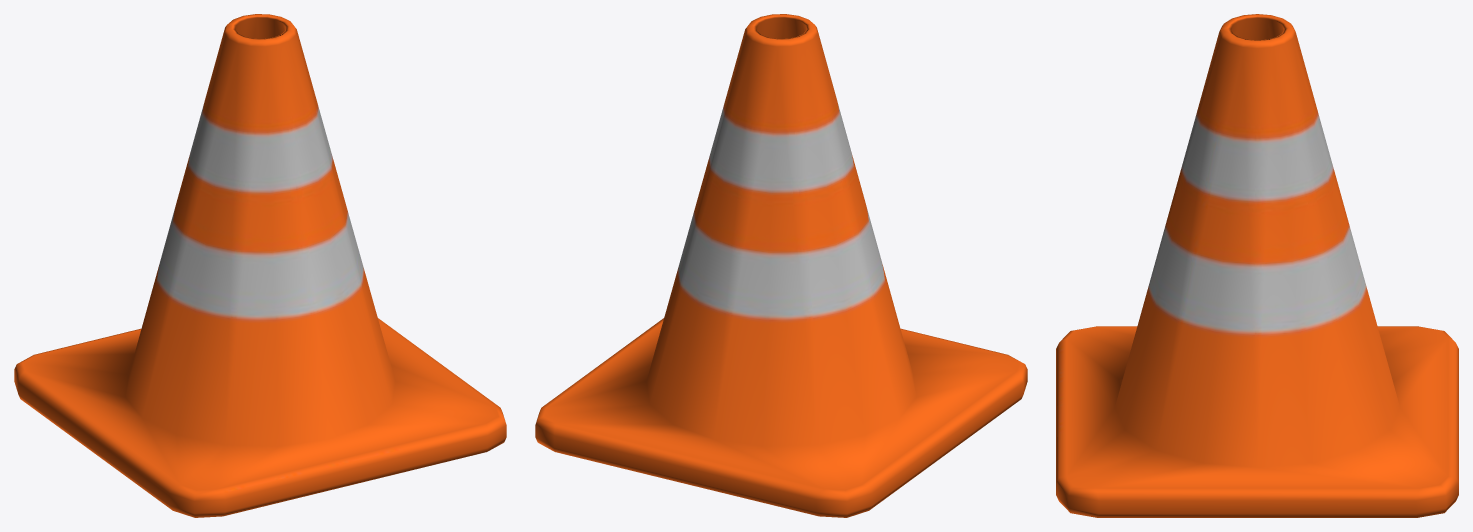
The model's file is hat_cone.glb.
The picture shows the model from 3 angles, left to right: view 1: azimuth 30°, elevation 25°; view 2: azimuth 150°, elevation 25°; view 3: azimuth 270°, elevation 25°; orthographic projection. The views are drawn at different scales.
Parts seen in each view (by area): view 1: LP_TrafficCone_v0.4__0; view 2: LP_TrafficCone_v0.4__0; view 3: LP_TrafficCone_v0.4__0.
Part boxes in pixels (x1,y1,x2,y2): LP_TrafficCone_v0.4__0: (14,14,506,517); LP_TrafficCone_v0.4__0: (535,14,1027,517); LP_TrafficCone_v0.4__0: (1056,14,1458,517).
Bounding box in the file's own units: 0.371 × 0.4154 × 0.371.
1 material, 1 textured.
